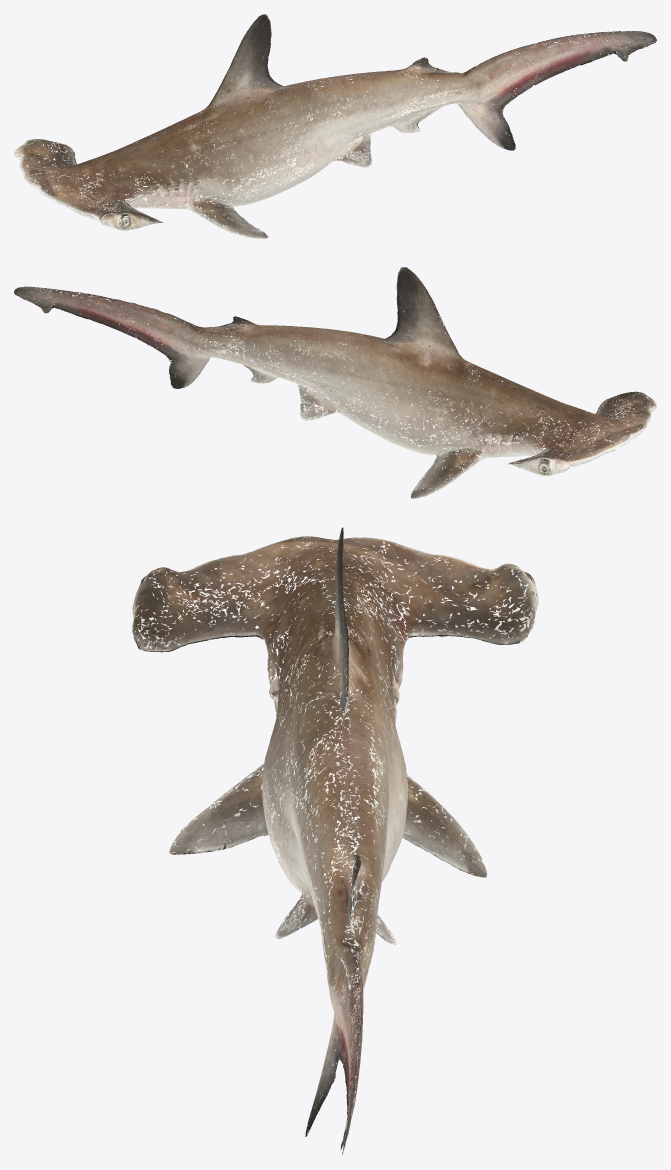
File: hammerhead.glb
3 renders of one model, top to bottom at view 1: azimuth 30°, elevation 25°; view 2: azimuth 150°, elevation 25°; view 3: azimuth 270°, elevation 25°, orthographic. The views are drawn at different scales.
Parts seen in each view (by area): view 1: Object_13, Object_6; view 2: Object_6, Object_13; view 3: Object_6, Object_13.
Boxes of the visible parts, bbox=[...] form: Object_13: bbox=[14, 31, 652, 238]; Object_6: bbox=[14, 14, 656, 238]; Object_6: bbox=[14, 267, 656, 498]; Object_13: bbox=[19, 286, 656, 497]; Object_6: bbox=[132, 527, 536, 1154]; Object_13: bbox=[132, 536, 538, 1150].
Bounding box in the file's own units: 25.24 × 7.58 × 7.18.
Materials: 2 (2 with a texture image).
